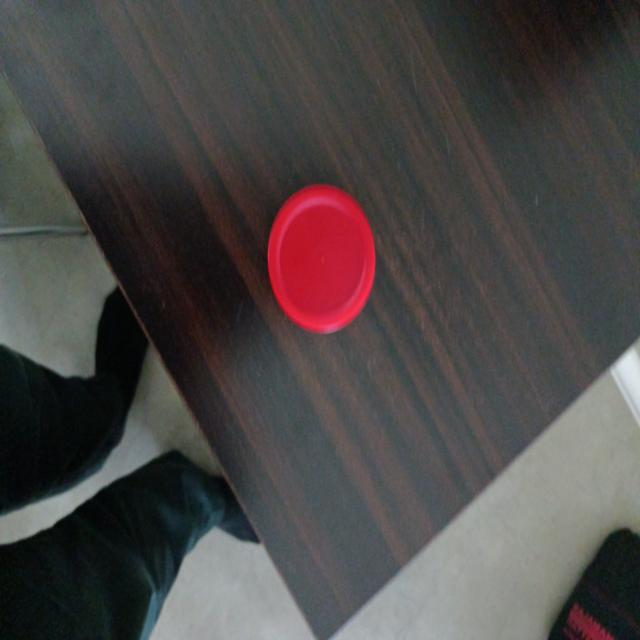chip: (266, 182, 376, 335)
